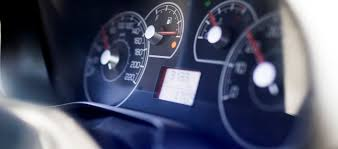Digital_Meter: (149, 57, 203, 109)
